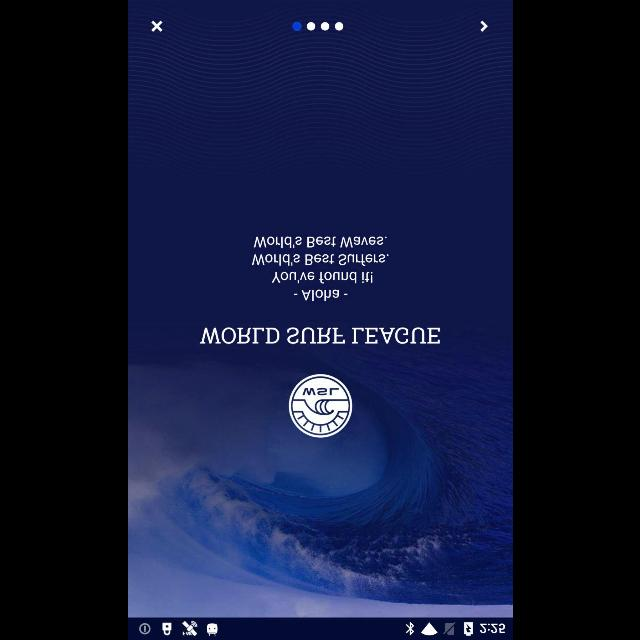backgroundimage: (128, 0, 512, 618)
icon: (150, 20, 162, 32), (479, 20, 487, 32)
image: (288, 374, 352, 438)
pageindicator: (291, 20, 343, 32)
text: (250, 236, 388, 300), (199, 326, 439, 344)
uppertaskbar: (128, 617, 512, 639)
